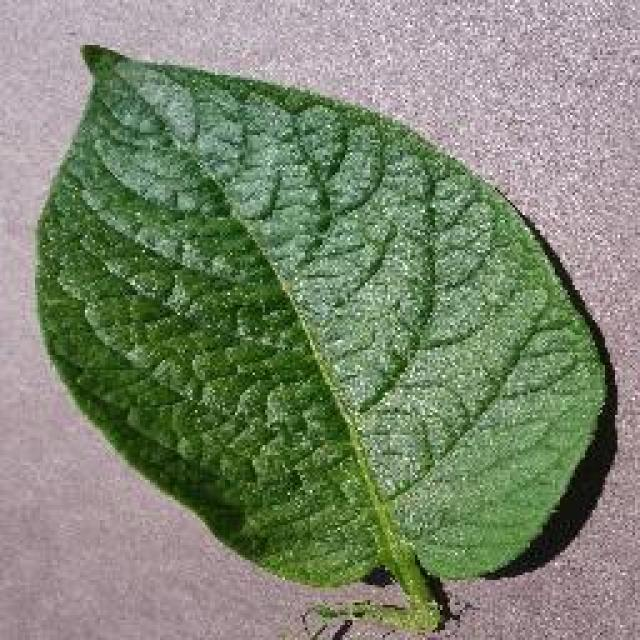Potato: (30, 40, 615, 632)
